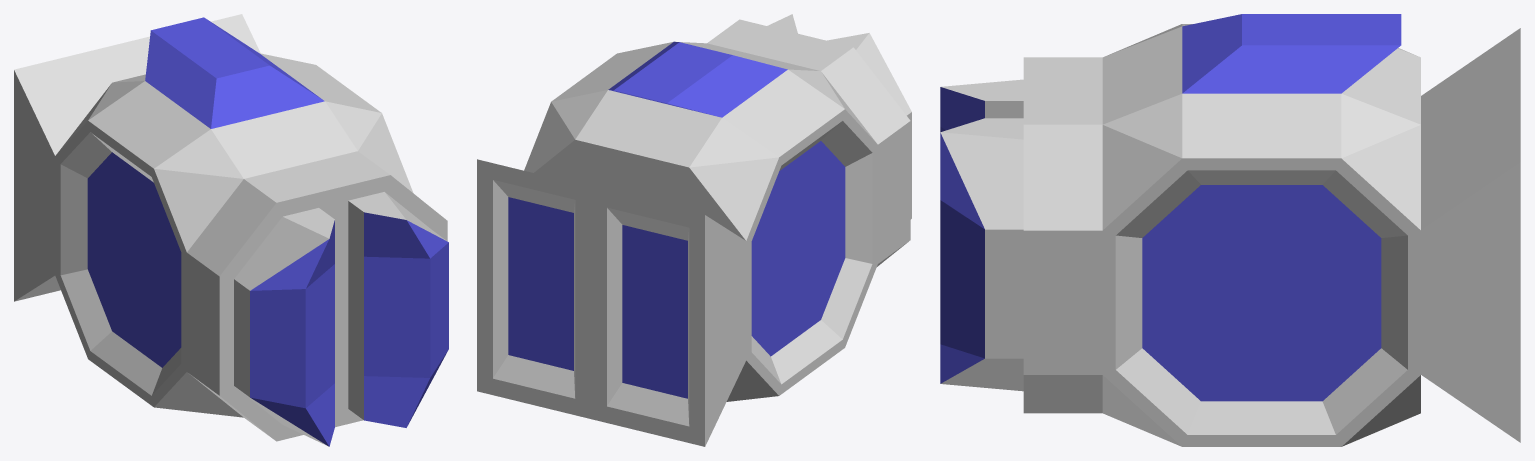
File: Alien_carrier.glb
3 views of the same model, side by side, from view 1: azimuth 30°, elevation 25°; view 2: azimuth 150°, elevation 25°; view 3: azimuth 270°, elevation 25° (orthographic). The views are drawn at different scales.
Parts seen in each view (by area): view 1: Cube; view 2: Cube; view 3: Cube.
Boxes of the visible parts, x1=… form: Cube: x1=14, y1=14, x2=448, y2=446; Cube: x1=477, y1=14, x2=911, y2=446; Cube: x1=940, y1=14, x2=1520, y2=446.
Bounding box in the file's own units: 3.31 × 4.02 × 6.04.
